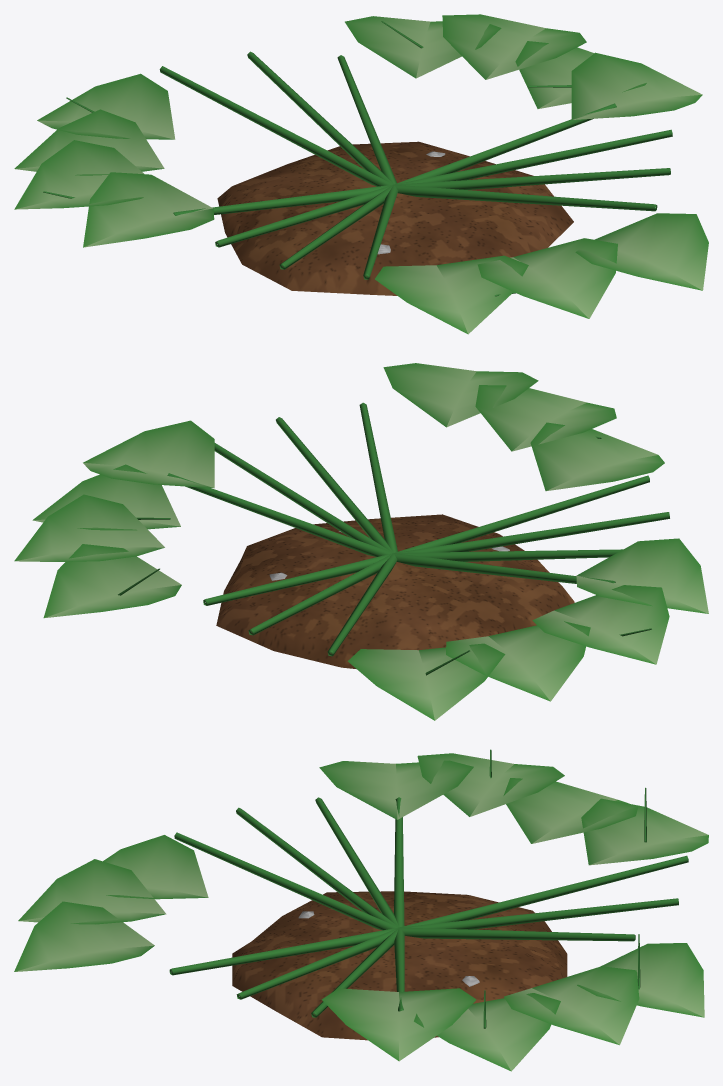
File: plant-watermelon-4.glb
3 renders of one model, top to bottom at view 1: azimuth 30°, elevation 25°; view 2: azimuth 150°, elevation 25°; view 3: azimuth 270°, elevation 25°, orthographic. The views are drawn at different scales.
Visible parts, largest first — view 1: plant-watermelon-4; view 2: plant-watermelon-4; view 3: plant-watermelon-4.
Part boxes in pixels (x1=…): plant-watermelon-4: x1=14, y1=14, x2=708, y2=334; plant-watermelon-4: x1=14, y1=363, x2=708, y2=720; plant-watermelon-4: x1=14, y1=749, x2=708, y2=1071.
Bounding box in the file's own units: 1.75 × 0.2393 × 1.7.
4 materials, 2 textured.
